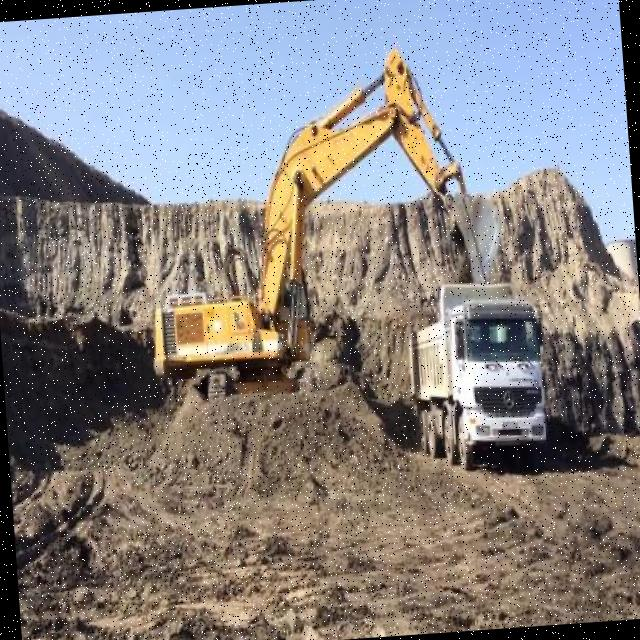Dump Truck: (396, 272, 561, 477)
Excavator: (131, 33, 516, 411)
